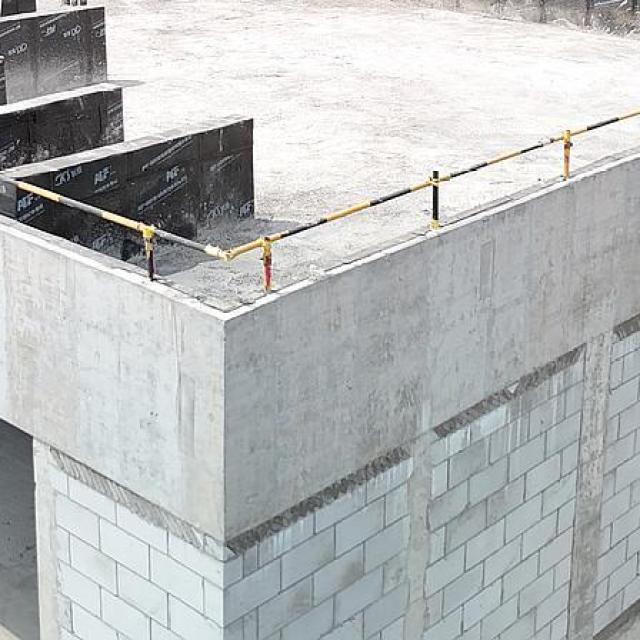edge_guardrail: (0, 108, 640, 295)
